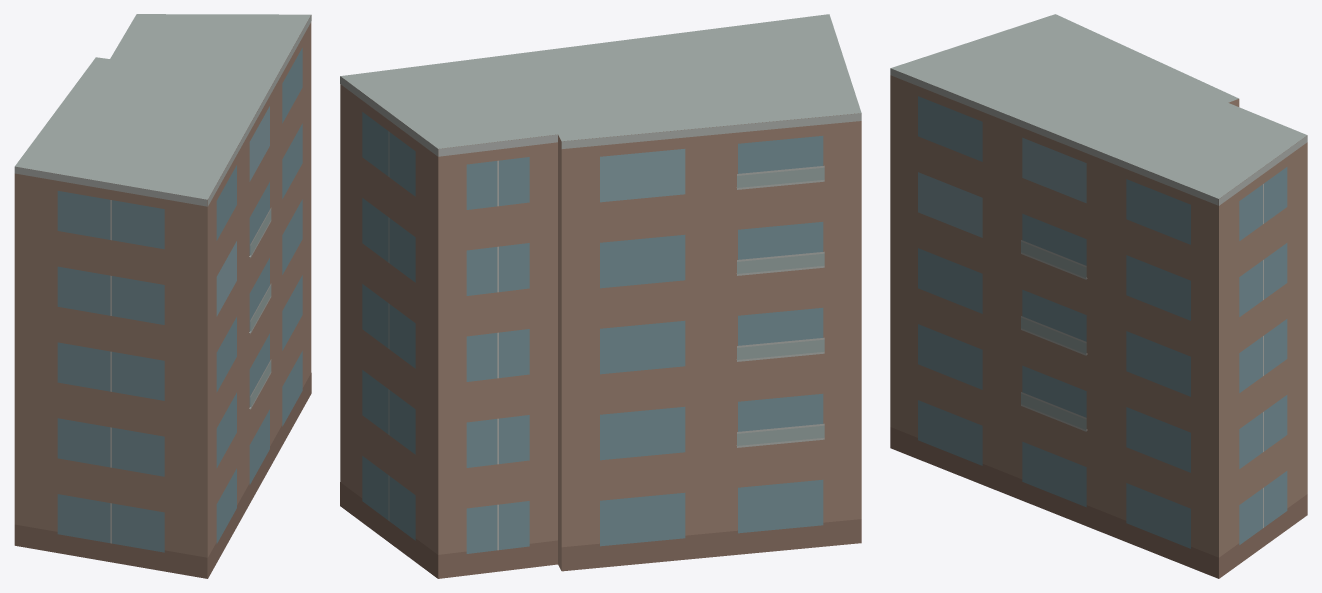
File: survey-upis-32689502.glb
3 views of the same model, side by side, from view 1: azimuth 30°, elevation 25°; view 2: azimuth 150°, elevation 25°; view 3: azimuth 270°, elevation 25° (orthographic). The views are drawn at different scales.
Visible parts, largest first — view 1: survey-upis-32689502.tmp; view 2: survey-upis-32689502.tmp; view 3: survey-upis-32689502.tmp.
Boxes of the visible parts, left/top/right/bottom form: survey-upis-32689502.tmp: left=14, top=14, right=311, bottom=578; survey-upis-32689502.tmp: left=340, top=14, right=861, bottom=578; survey-upis-32689502.tmp: left=890, top=14, right=1307, bottom=578.
Size of the model in its own units: 13.89 by 13.3 by 13.24.
